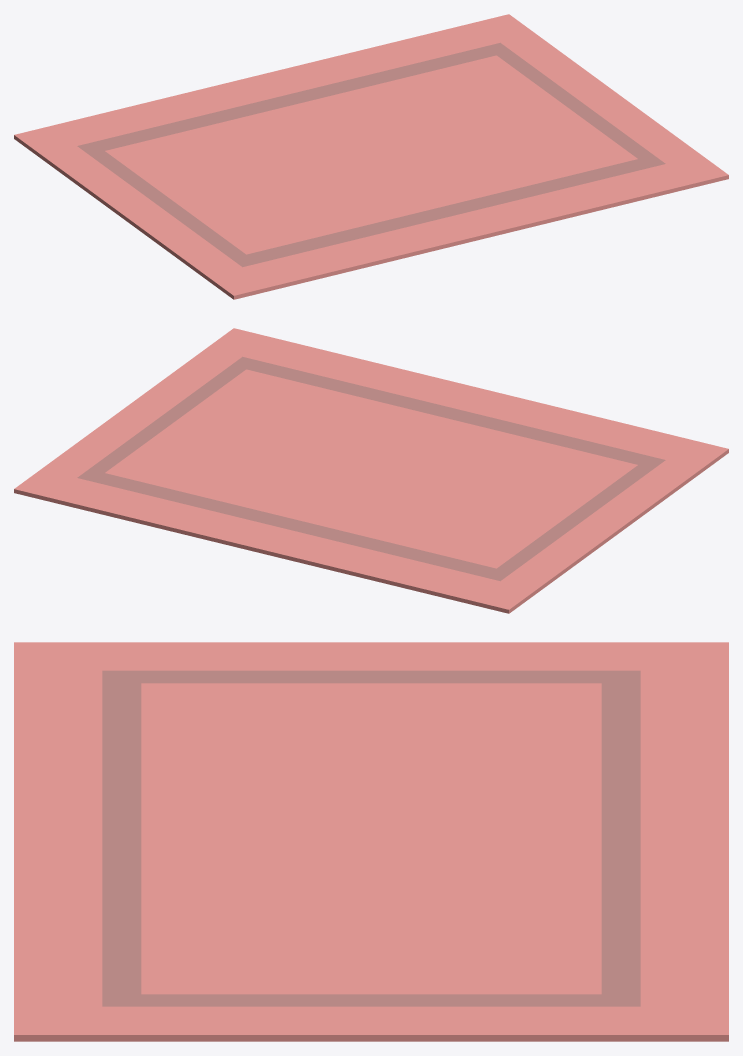
Rendered from kk-rugRectangle-bed.glb.
3 views of the same model, one above another, from view 1: azimuth 30°, elevation 25°; view 2: azimuth 150°, elevation 25°; view 3: azimuth 270°, elevation 25° (orthographic). The views are drawn at different scales.
Visible parts, largest first — view 1: rugRectangle(Clone); view 2: rugRectangle(Clone); view 3: rugRectangle(Clone).
Part boxes in pixels (box(x1,y1,x2,y2)): rugRectangle(Clone): box(14, 14, 728, 299); rugRectangle(Clone): box(14, 328, 728, 613); rugRectangle(Clone): box(14, 642, 728, 1041).
Bounding box in the file's own units: 1 × 0.00769 × 0.7693.
